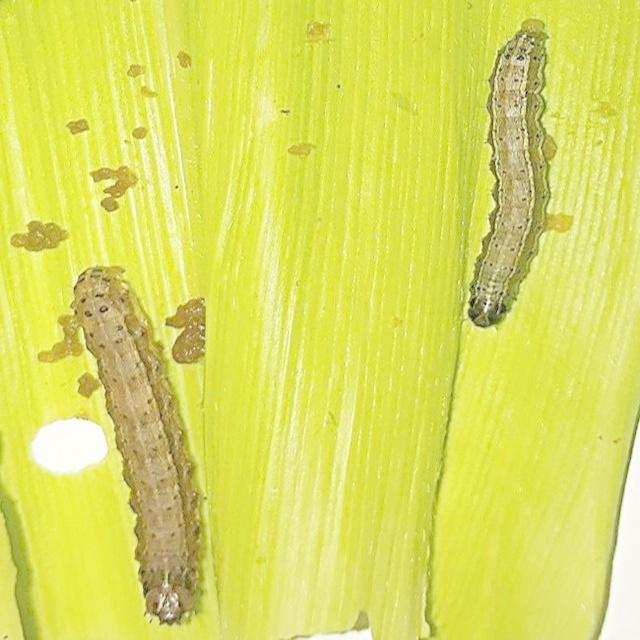gusano_cogollero: (75, 270, 200, 625), (467, 25, 550, 327)
